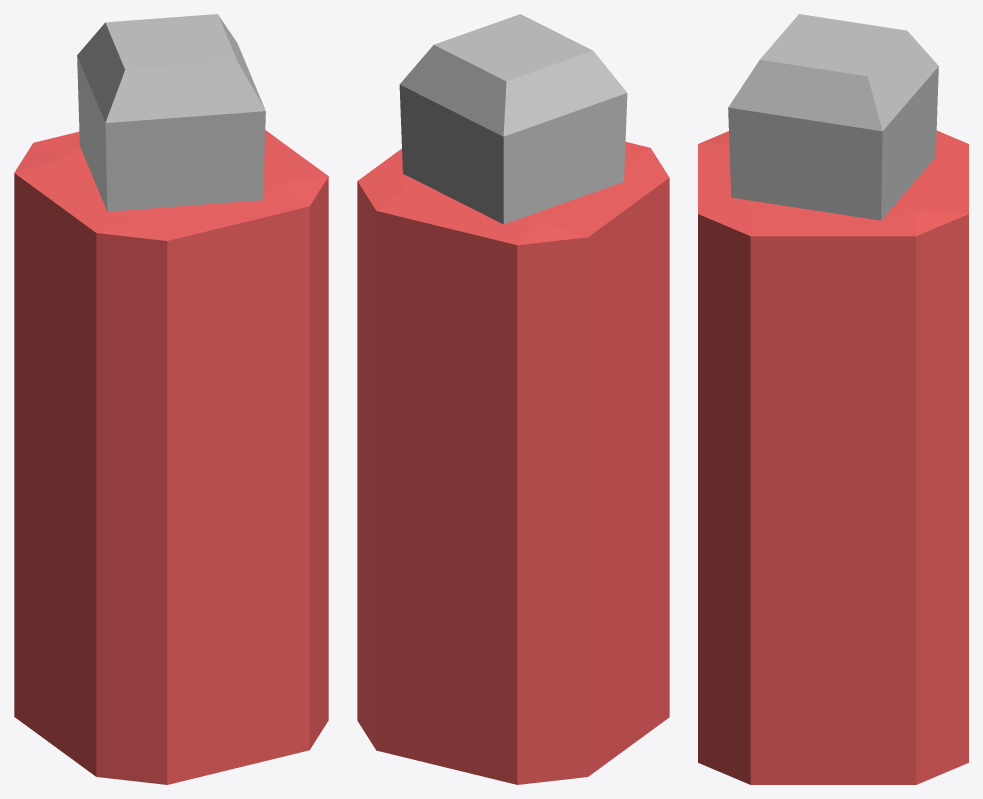
The model's file is Girl Stuff.fbx.
The picture shows the model from 3 angles, left to right: view 1: azimuth 30°, elevation 25°; view 2: azimuth 150°, elevation 25°; view 3: azimuth 270°, elevation 25°; orthographic projection.
Visible parts, largest first — view 1: Girl Stuff; view 2: Girl Stuff; view 3: Girl Stuff.
Part boxes in pixels (<box>): Girl Stuff: <box>14,14,328,784</box>; Girl Stuff: <box>357,14,669,784</box>; Girl Stuff: <box>698,14,968,784</box>.
Size of the model in its own units: 0.0295 by 0.0821 by 0.0295.
